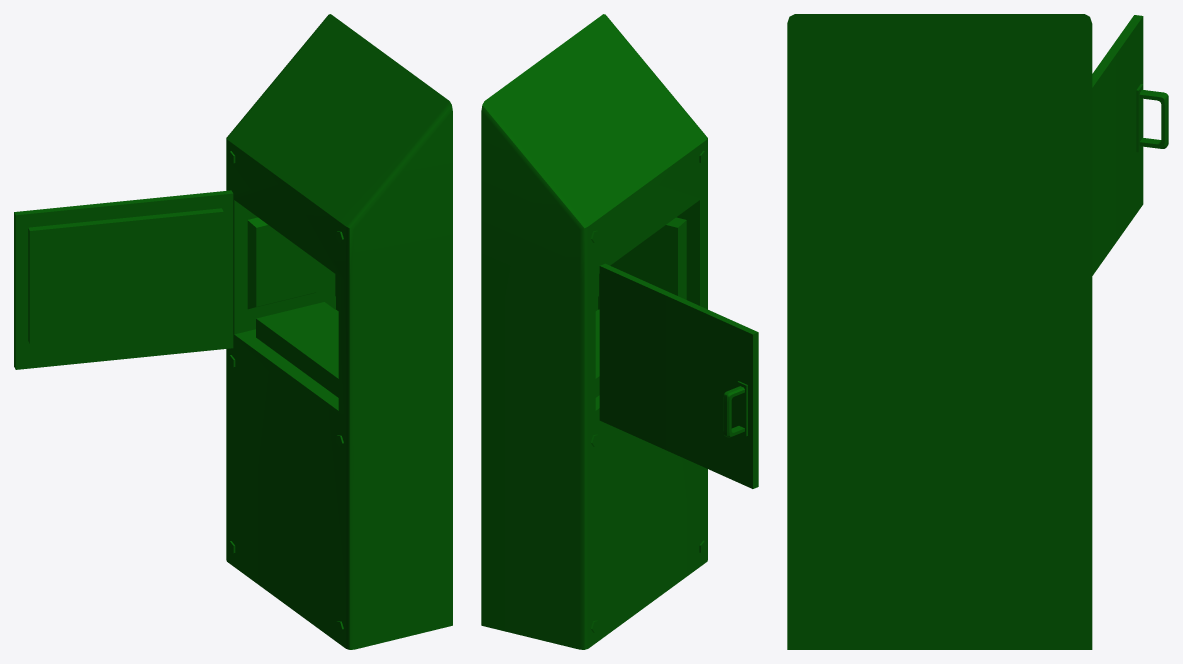
Rendered from Oven.fbx.
3 views of the same model, side by side, from view 1: azimuth 30°, elevation 25°; view 2: azimuth 150°, elevation 25°; view 3: azimuth 270°, elevation 25° (orthographic). The views are drawn at different scales.
Visible parts, largest first — view 1: Oven_Base, Door; view 2: Oven_Base, Door, GRAB_ME; view 3: Oven_Base, Door, GRAB_ME.
Boxes of the visible parts, x1,y1,x2,y2 form: Oven_Base: (226,14,452,649); Door: (14,190,233,369); Oven_Base: (481,14,707,649); Door: (599,263,758,488); GRAB_ME: (723,386,744,437); Oven_Base: (787,14,1092,649); Door: (1092,15,1143,275); GRAB_ME: (1139,89,1168,148).
Bounding box in the file's own units: 159 × 269 × 146.
